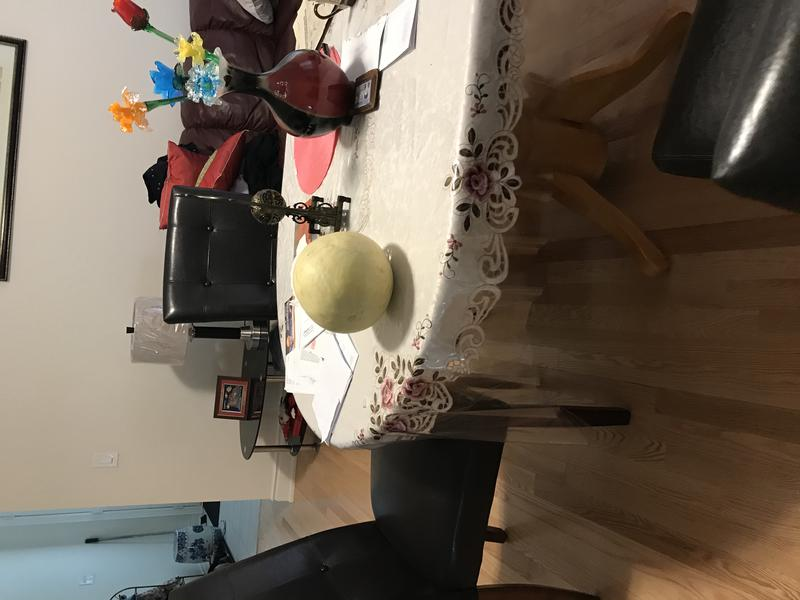honeydew: (286, 228, 397, 336)
